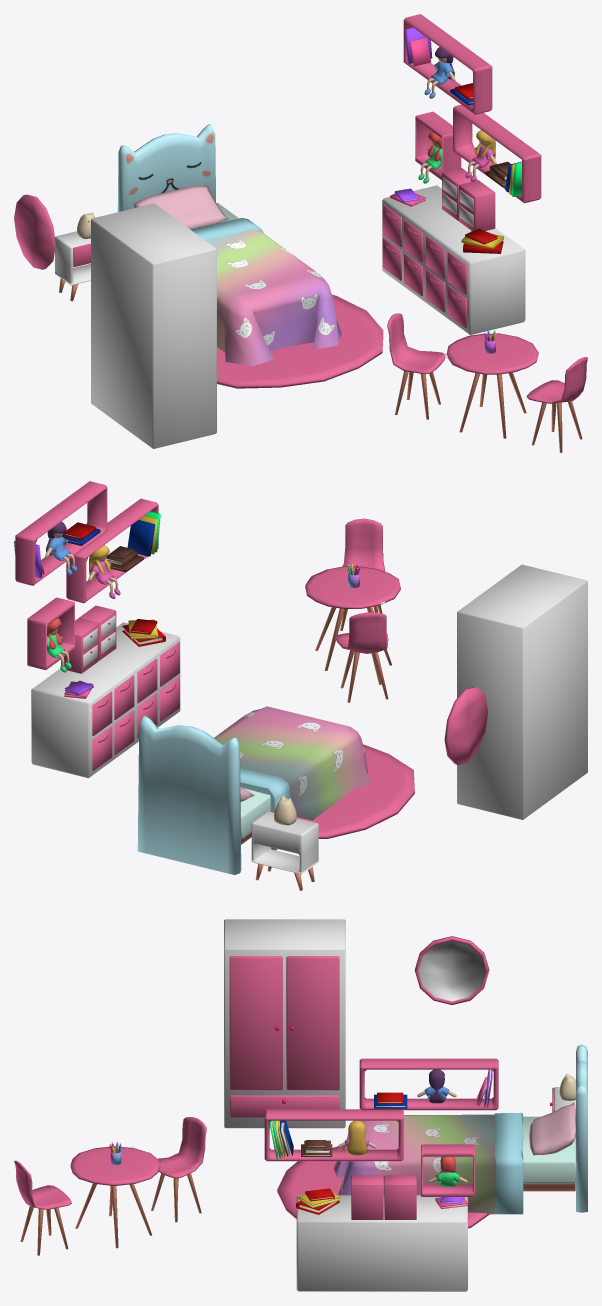
Rendered from Baby_Room.fbx.
3 views of the same model, one above another, from view 1: azimuth 30°, elevation 25°; view 2: azimuth 150°, elevation 25°; view 3: azimuth 270°, elevation 25° (orthographic). The views are drawn at different scales.
Visible parts, largest first — view 1: pink, Bed, Block, Carpet, Table, shelf_2, shelf_3, Mirror, Chair1, Chair, Block1, shelf_1 (+5 smaller); view 2: pink, Bed, Block, Carpet, shelf_3, Table, Block1, Mirror, shelf_2, Chair1, shelf_1, Chair (+8 smaller); view 3: pink, Bed, Block, Mirror, Table, shelf_3, shelf_2, Carpet, Chair1, Chair, shelf_1, books_1 (+6 smaller).
Part boxes in pixels (box(x1,y1,x2,y2)): pink: box(91, 203, 216, 448); Bed: box(117, 124, 341, 366); Block: box(382, 167, 525, 335); Carpet: box(217, 294, 383, 388); Table: box(446, 333, 538, 438); shelf_2: box(453, 104, 541, 203); shelf_3: box(403, 14, 492, 114); Mirror: box(14, 194, 55, 269); Chair1: box(387, 313, 445, 419); Chair: box(526, 357, 587, 452); Block1: box(55, 231, 90, 301); shelf_1: box(415, 111, 461, 180); pink: box(457, 564, 587, 819); Bed: box(137, 706, 370, 874); Block: box(31, 605, 180, 778); Carpet: box(313, 744, 414, 838); shelf_3: box(15, 481, 107, 585); Table: box(305, 566, 400, 670); Block1: box(251, 810, 318, 890); Mirror: box(444, 687, 488, 765); shelf_2: box(66, 498, 158, 603); Chair1: box(335, 612, 388, 702); shelf_1: box(27, 597, 74, 669); Chair: box(340, 518, 385, 630); pink: box(224, 919, 345, 1128); Bed: box(334, 1044, 587, 1214); Block: box(296, 1175, 467, 1291); Mirror: box(414, 936, 489, 1004); Table: box(70, 1146, 160, 1248); shelf_3: box(359, 1058, 498, 1110); shelf_2: box(264, 1109, 403, 1161); Carpet: box(277, 1147, 489, 1228); Chair1: box(151, 1117, 206, 1222); Chair: box(14, 1160, 71, 1255); shelf_1: box(421, 1144, 475, 1196); books_1: box(296, 1188, 340, 1214).
Size of the model in its own units: 537 by 288 by 662.
1 material, 1 textured.
